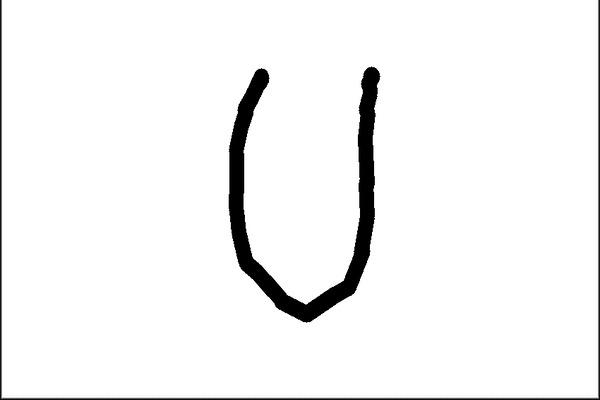U: (223, 61, 378, 334)
